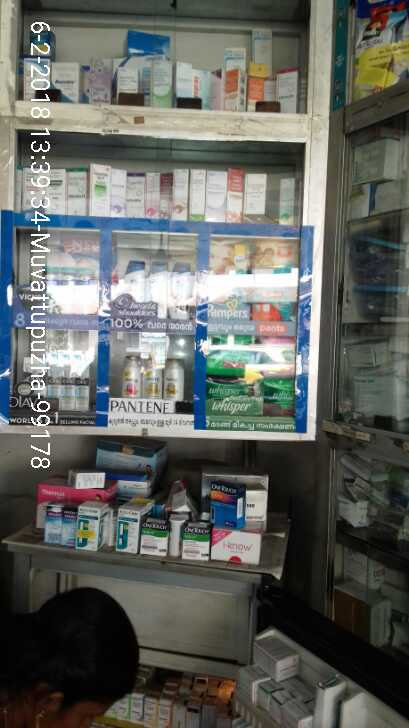vicks: (42, 265, 97, 293)
